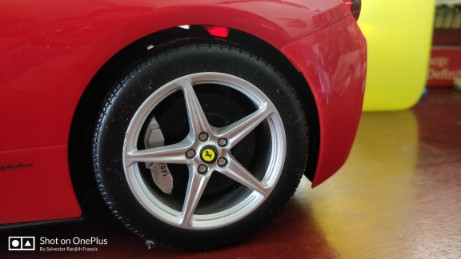aligned_wheel: (88, 49, 315, 252)
